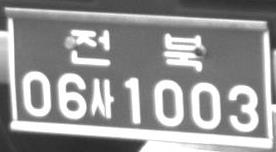0: (152, 77, 184, 127), (190, 81, 221, 130), (21, 70, 52, 118)
1: (120, 76, 148, 124)
3: (227, 84, 260, 133)
6: (57, 72, 87, 119)
사: (89, 78, 114, 119)
전북_D: (70, 28, 203, 72)
